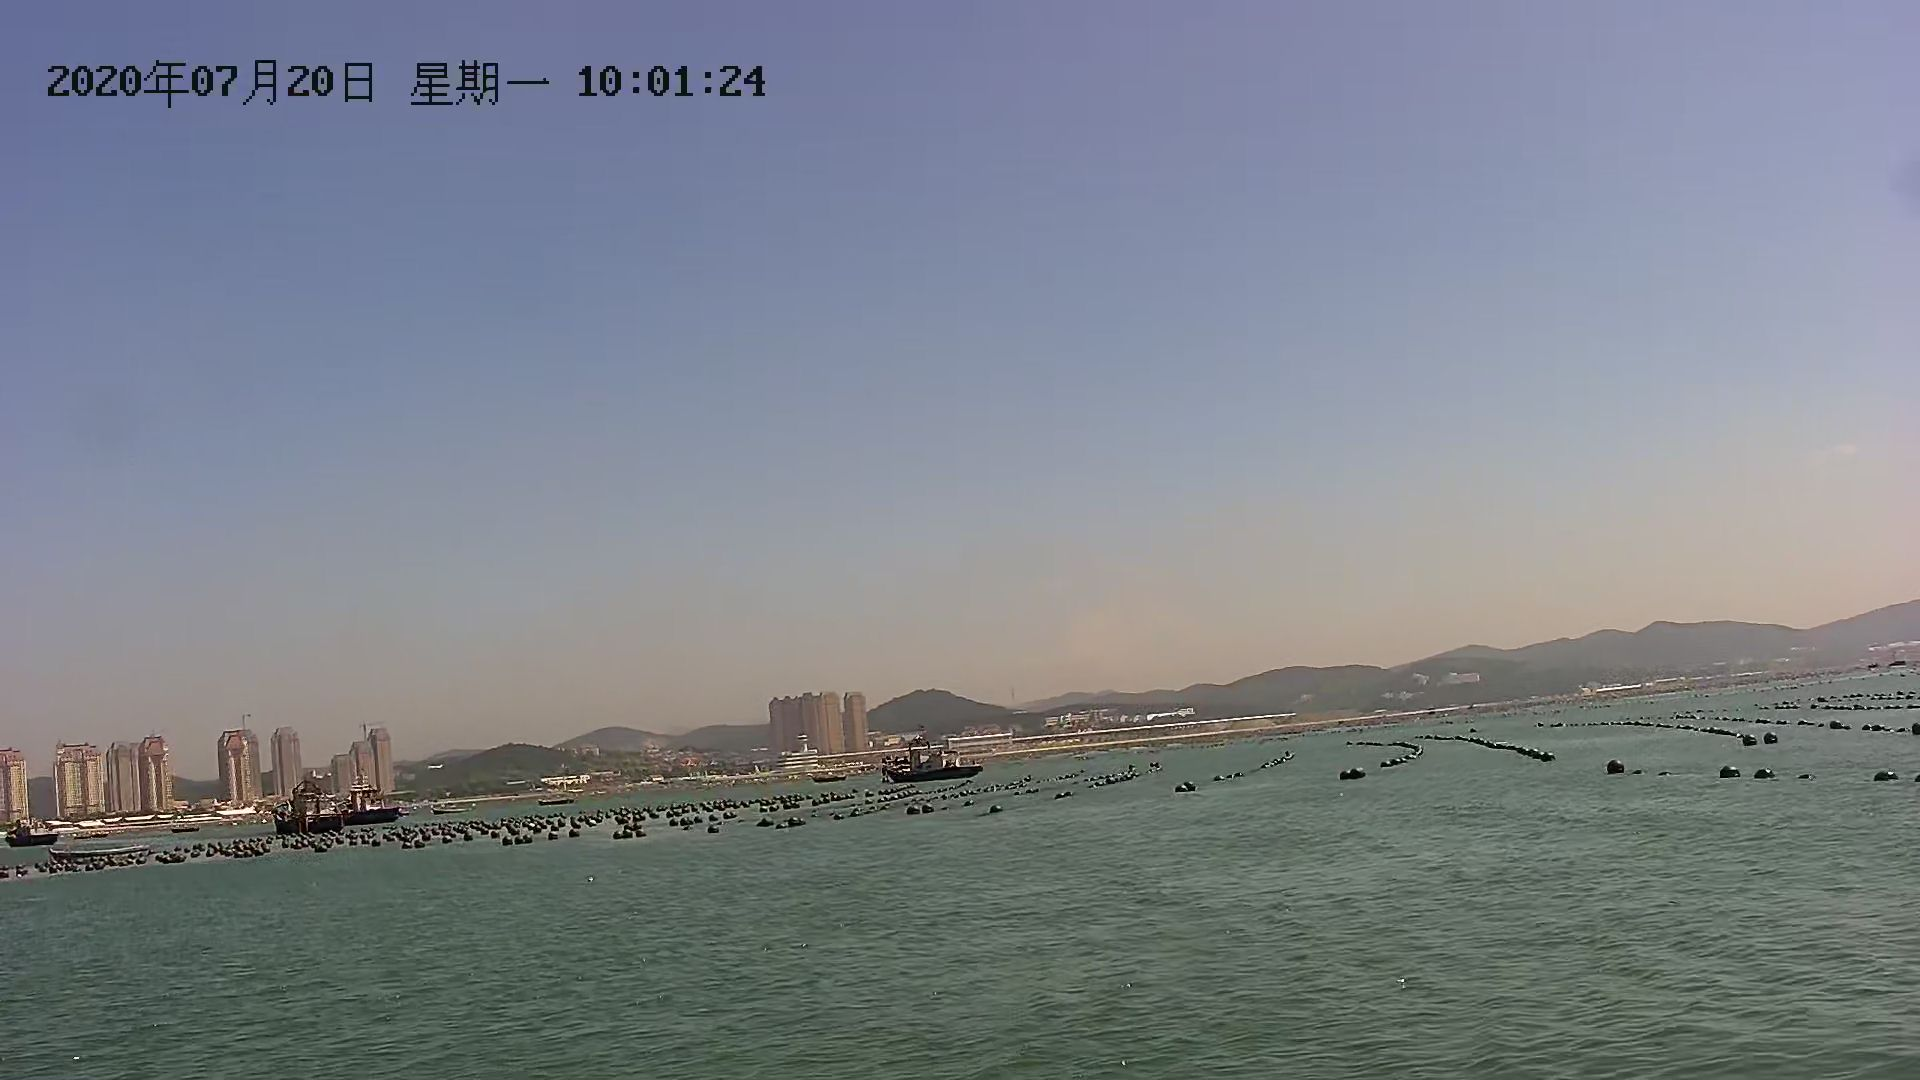ball: (1338, 765, 1371, 787), (1873, 767, 1900, 789), (1606, 760, 1635, 777), (1718, 758, 1738, 775), (1755, 764, 1774, 781)
boat: (4, 811, 63, 853)
ship: (873, 737, 986, 782), (268, 794, 344, 833), (336, 785, 397, 829)
